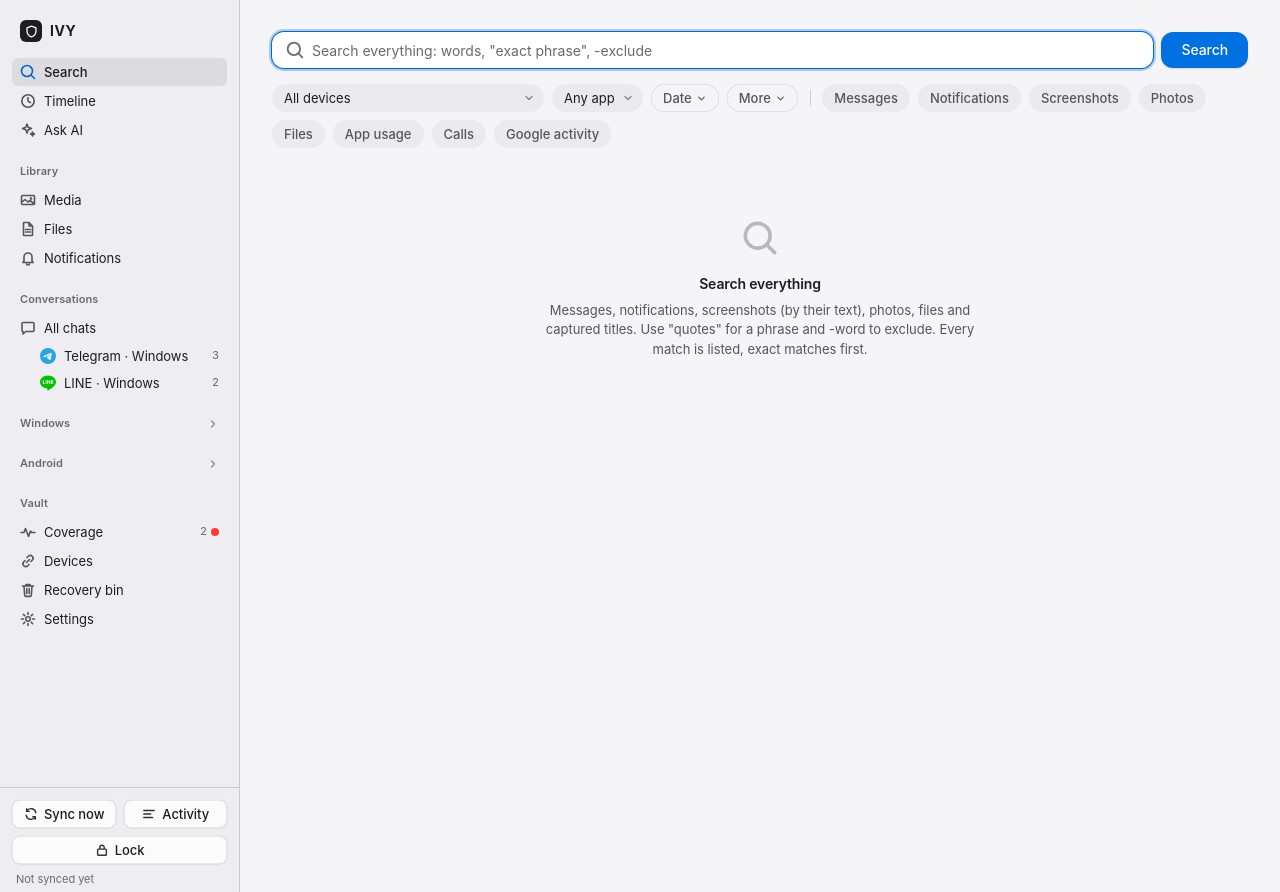
Test: sidebar navigation › routes: a link changes the view and the selection
The image size is (1280, 892).
Click the link "Timeline".
click(58, 101)  # box [20,93,96,109]
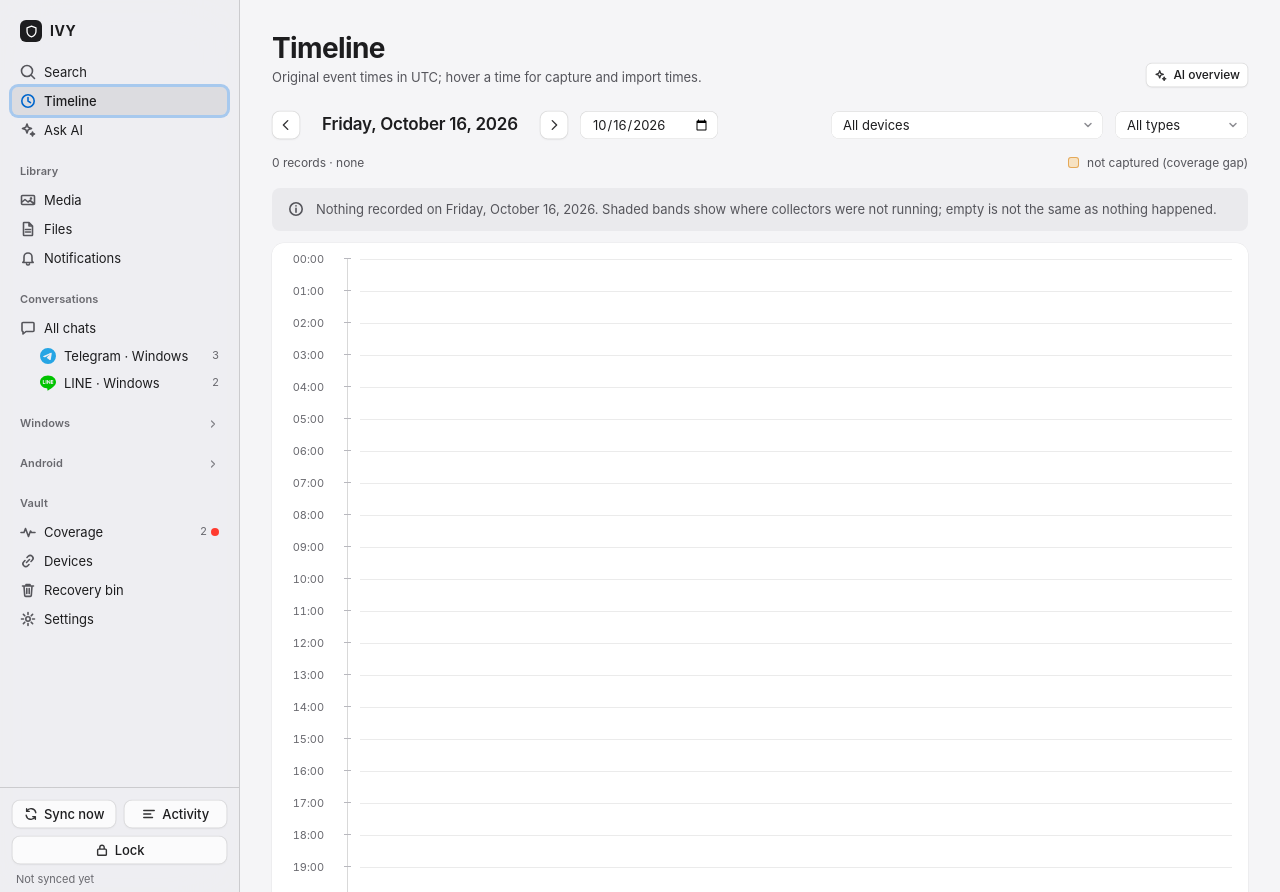
Expected: the heading "Timeline" is shown, [272,31,385,65]
Note: a device source opens the per-device view: status card + the source filtered to that device
Click the button "Windows".
click(120, 424)  # box [12,412,227,436]
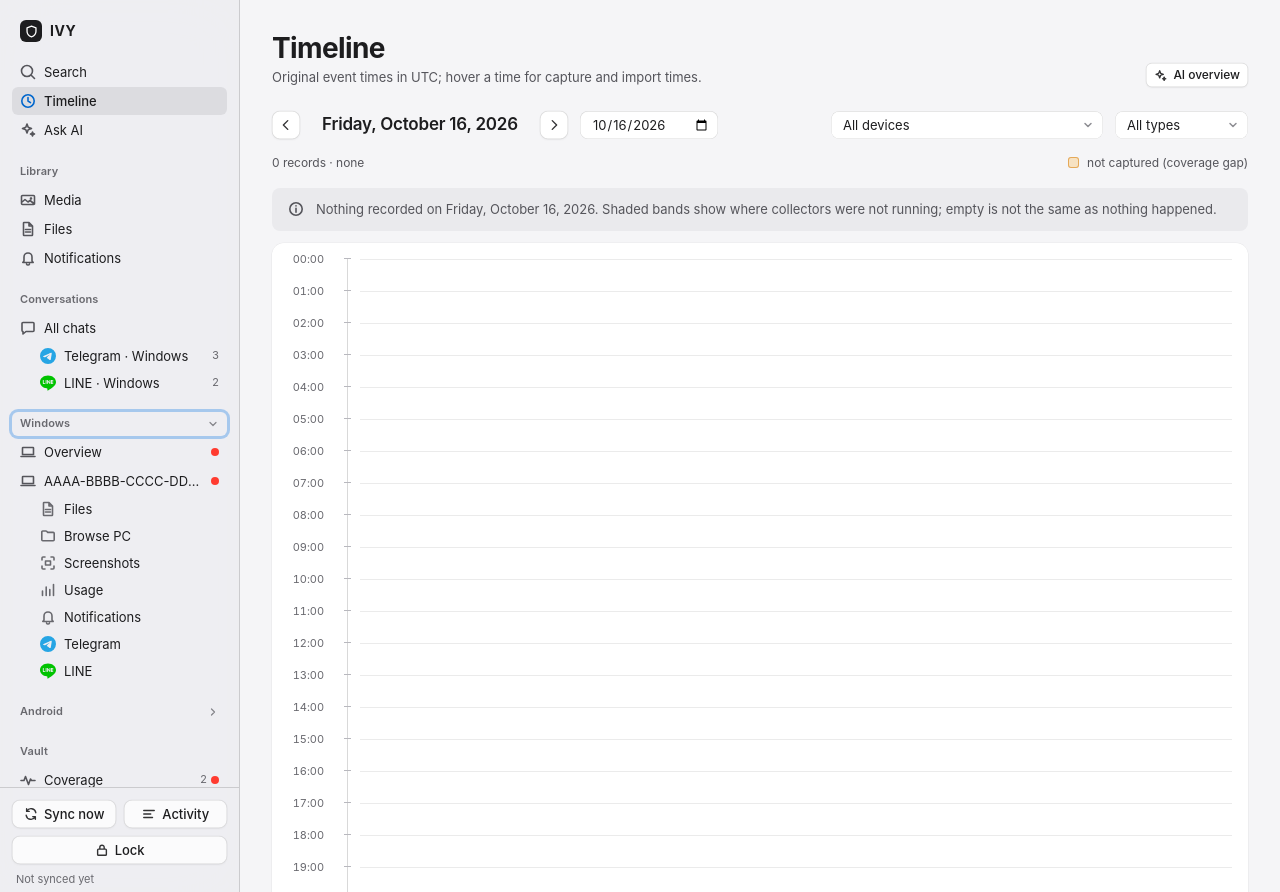
Click the link with aria-label "Windows Files".
click(66, 509)  # box [40,501,92,517]
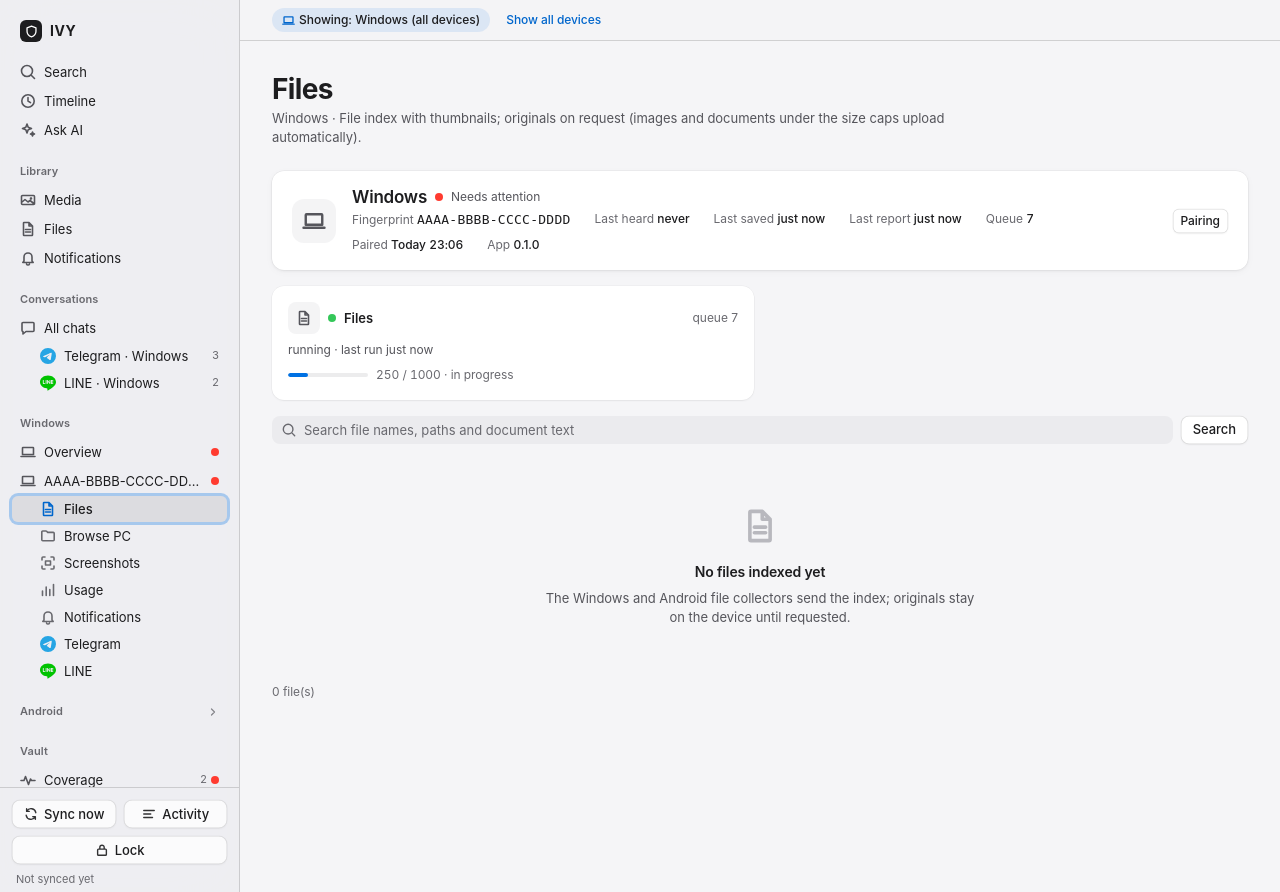
Expected: the element named "Windows status" shows "AAAA-BBBB-CCCC-DDDD", [417,212,571,227]
